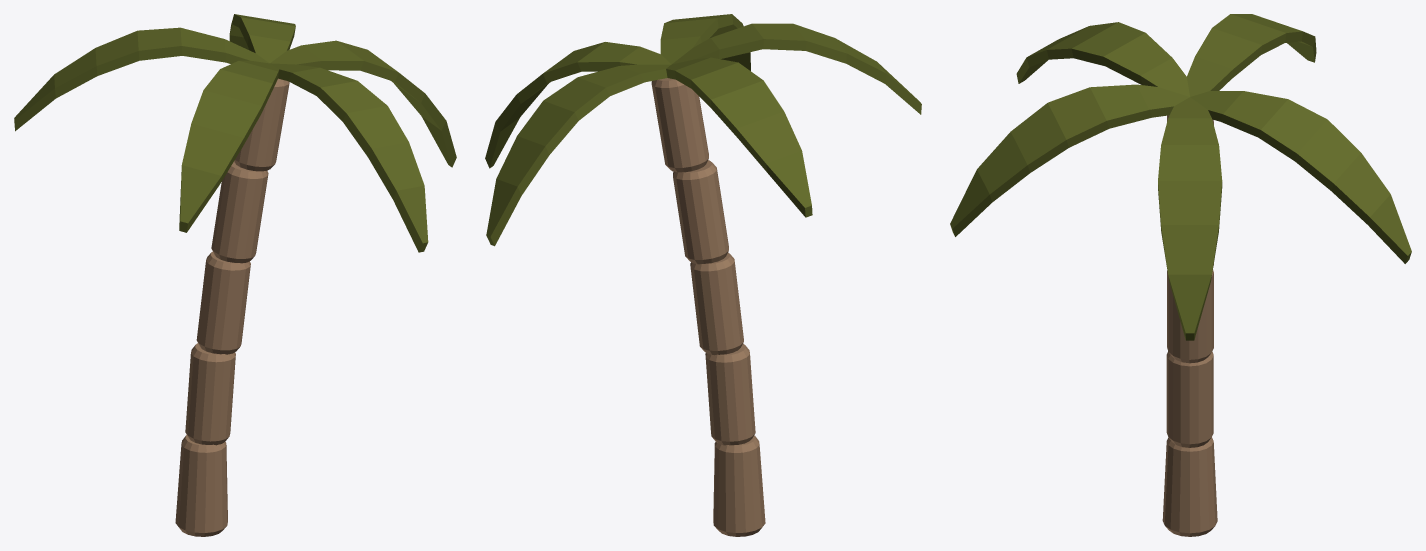
Rendered from palm.fbx.
3 renders of one model, left to right at view 1: azimuth 30°, elevation 25°; view 2: azimuth 150°, elevation 25°; view 3: azimuth 270°, elevation 25°, orthographic. The views are drawn at different scales.
Parts seen in each view (by area): view 1: Palm; view 2: Palm; view 3: Palm.
Boxes of the visible parts, x1,y1,x2,y2 form: Palm: (14, 14, 456, 536); Palm: (485, 14, 921, 536); Palm: (950, 14, 1411, 536).
Bounding box in the file's own units: 179 × 213 × 181.
